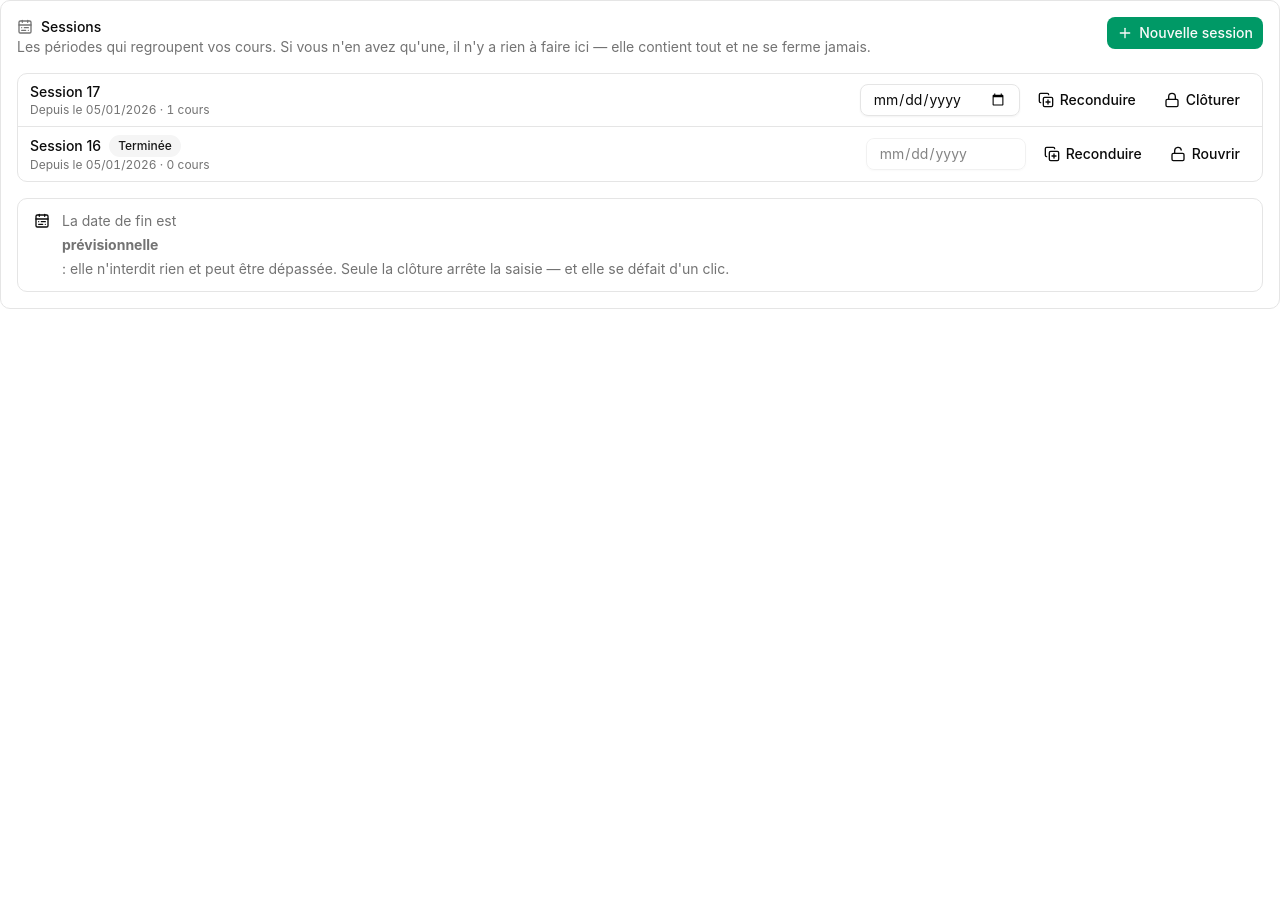
Test case: SectionSessions › affiche « 0 » proprement pour un cours qui n’a rien tenu
This screenshot has width=1280, height=900.
Click the button "Clôturer" at {"x": 1202, "y": 100}, box [1154,84,1250,116]
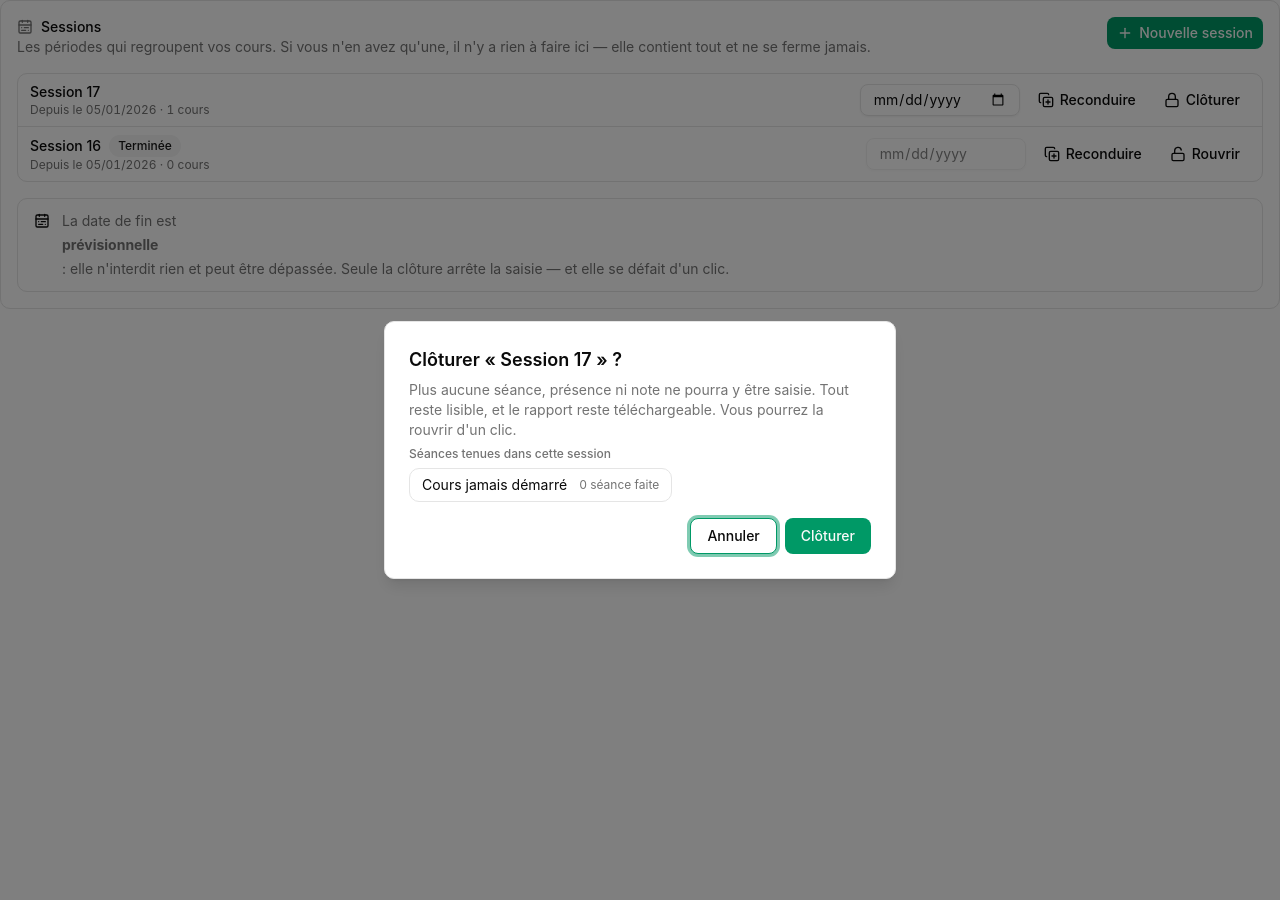
expect the text "Cours jamais démarré" is shown: met, box [422,475,567,495]
expect the text "0 séance faite" is shown: met, box [579,477,659,493]
